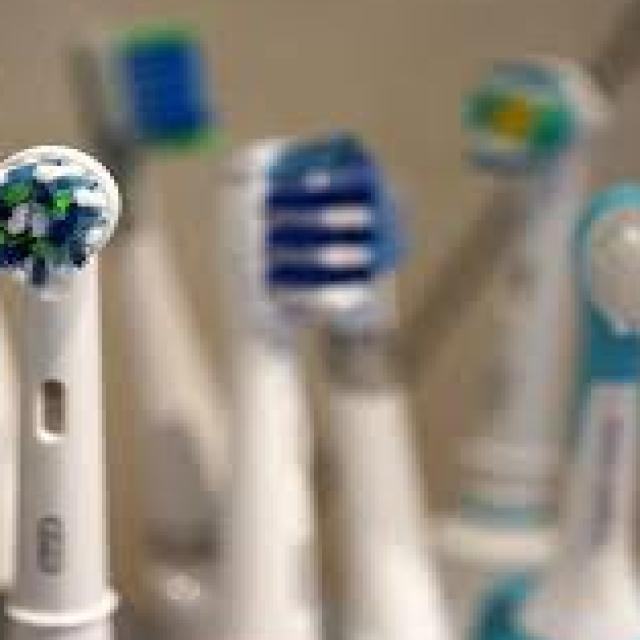organic: (5, 10, 627, 609)
